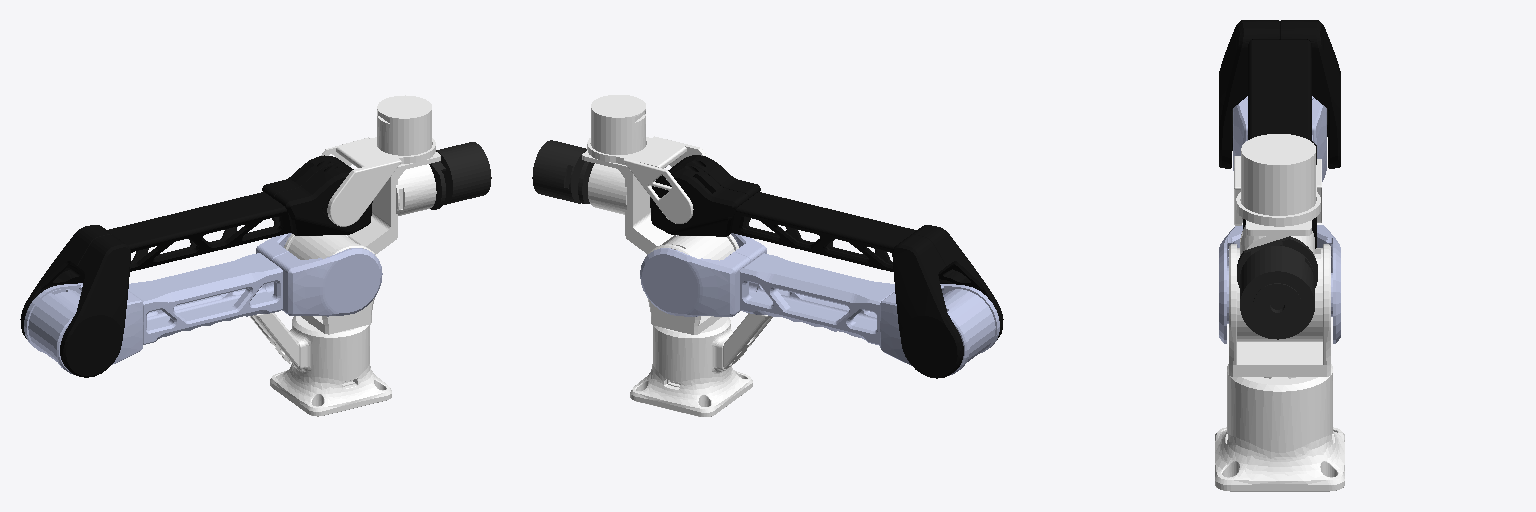
robot.urdf — robot:
<?xml version="1.0"?>
<robot name="robot">
  <link name="base">
    <inertial>
      <origin xyz="-0.00248207 1e-8 0.03784448" rpy="0 0 0"/>
      <mass value="0.3764035"/>
      <inertia ixx="0.00019685" ixy="0" ixz="-0.00002405" iyy="0.00024222" iyz="0" izz="0.00023206"/>
    </inertial>
    <visual>
      <origin xyz="0 0 0" rpy="0 0 0"/>
      <geometry><mesh filename="package://damiao_arm_bringup/meshes/base_collision.stl"/></geometry>
      <material name="base_color"><color rgba="1 1 1 1"/></material>
    </visual>
    <collision>
      <origin xyz="0 0 0" rpy="0 0 0"/>
      <geometry><mesh filename="package://damiao_arm_bringup/meshes/base_collision.stl"/></geometry>
    </collision>
  </link>
  <link name="link1">
    <inertial>
      <origin xyz="0.00003538 -0.0000718 0.04801679" rpy="0 0 0"/>
      <mass value="0.41400874"/>
      <inertia ixx="0.0002321" ixy="3.1e-7" ixz="7e-8" iyy="0.00020922" iyz="-9e-8" izz="0.00018913"/>
    </inertial>
    <visual>
      <origin xyz="0 0 0" rpy="0 0 0"/>
      <geometry><mesh filename="package://damiao_arm_bringup/meshes/link1_collision.stl"/></geometry>
      <material name="link1_color"><color rgba="1 1 1 1"/></material>
    </visual>
    <collision>
      <origin xyz="0 0 0" rpy="0 0 0"/>
      <geometry><mesh filename="package://damiao_arm_bringup/meshes/link1_collision.stl"/></geometry>
    </collision>
  </link>
  <link name="link2">
    <inertial>
      <origin xyz="-0.19714328 0.02657002 0.00032055" rpy="0 0 0"/>
      <mass value="0.47570874"/>
      <inertia ixx="0.00022693" ixy="0.00004893" ixz="0.00001398" iyy="0.00371175" iyz="-1.1e-7" izz="0.00374776"/>
    </inertial>
    <visual>
      <origin xyz="0 0 0" rpy="0 0 0"/>
      <geometry><mesh filename="package://damiao_arm_bringup/meshes/link2_collision.stl"/></geometry>
      <material name="link2_color"><color rgba="0.79215686 0.81960784 0.93333333 1"/></material>
    </visual>
    <collision>
      <origin xyz="0 0 0" rpy="0 0 0"/>
      <geometry><mesh filename="package://damiao_arm_bringup/meshes/link2_collision.stl"/></geometry>
    </collision>
  </link>
  <link name="link3">
    <inertial>
      <origin xyz="0.1651649 0.02270821 0.05318555" rpy="0 0 0"/>
      <mass value="0.32789237"/>
      <inertia ixx="0.00036749" ixy="-0.00006783" ixz="0.00064566" iyy="0.00412989" iyz="-0.00002073" izz="0.00398948"/>
    </inertial>
    <visual>
      <origin xyz="0 0 0" rpy="0 0 0"/>
      <geometry><mesh filename="package://damiao_arm_bringup/meshes/link3_collision.stl"/></geometry>
      <material name="link3_color"><color rgba="0.10980392 0.10980392 0.10980392 1"/></material>
    </visual>
    <collision>
      <origin xyz="0 0 0" rpy="0 0 0"/>
      <geometry><mesh filename="package://damiao_arm_bringup/meshes/link3_collision.stl"/></geometry>
    </collision>
  </link>
  <link name="link4">
    <inertial>
      <origin xyz="0.0651087 0.02590824 0.04330766" rpy="0 0 0"/>
      <mass value="0.1718"/>
      <inertia ixx="0.00006639" ixy="0.00000407" ixz="0.00002936" iyy="0.00010706" iyz="0.0000025" izz="0.00009881"/>
    </inertial>
    <visual>
      <origin xyz="0 0 0" rpy="0 0 0"/>
      <geometry><mesh filename="package://damiao_arm_bringup/meshes/link4_collision.stl"/></geometry>
      <material name="link4_color"><color rgba="1 1 1 1"/></material>
    </visual>
    <collision>
      <origin xyz="0 0 0" rpy="0 0 0"/>
      <geometry><mesh filename="package://damiao_arm_bringup/meshes/link4_collision.stl"/></geometry>
    </collision>
  </link>
  <link name="link5">
    <inertial>
      <origin xyz="-0.00402778 -0.00058728 -0.03553932" rpy="0 0 0"/>
      <mass value="0.175"/>
      <inertia ixx="0.00006362" ixy="-4.6e-7" ixz="0.00001137" iyy="0.00007156" iyz="-9e-8" izz="0.0000536"/>
    </inertial>
    <visual>
      <origin xyz="0 0 0" rpy="0 0 0"/>
      <geometry><mesh filename="package://damiao_arm_bringup/meshes/link5_collision.stl"/></geometry>
      <material name="link5_color"><color rgba="1 1 1 1"/></material>
    </visual>
    <collision>
      <origin xyz="0 0 0" rpy="0 0 0"/>
      <geometry><mesh filename="package://damiao_arm_bringup/meshes/link5_collision.stl"/></geometry>
    </collision>
  </link>
  <link name="link6">
    <inertial>
      <origin xyz="0.0338251 -0.00006571 -0.00002222" rpy="0 0 0"/>
      <mass value="0.1815"/>
      <inertia ixx="0.00005772" ixy="1.5e-7" ixz="6e-8" iyy="0.00005864" iyz="3.2e-7" izz="0.00006648"/>
    </inertial>
    <visual>
      <origin xyz="0 0 0" rpy="0 0 0"/>
      <geometry><mesh filename="package://damiao_arm_bringup/meshes/link6_collision.stl"/></geometry>
      <material name="link6_color"><color rgba="0.2 0.2 0.2 1"/></material>
    </visual>
    <collision>
      <origin xyz="0 0 0" rpy="0 0 0"/>
      <geometry><mesh filename="package://damiao_arm_bringup/meshes/link6_collision.stl"/></geometry>
    </collision>
  </link>
  <joint name="joint1" type="revolute">
    <parent link="base"/>
    <child link="link1"/>
    <origin xyz="0 0 0.063" rpy="0 0 0"/>
    <axis xyz="0 0 1"/>
    <limit lower="-3.14" upper="3.14" effort="10" velocity="3"/>
  </joint>
  <joint name="joint2" type="revolute">
    <parent link="link1"/>
    <child link="link2"/>
    <origin xyz="0 -0.0261 0.051" rpy="0 0 0"/>
    <axis xyz="0 1 0"/>
    <limit lower="-3.14" upper="3.14" effort="10" velocity="3"/>
  </joint>
  <joint name="joint3" type="revolute">
    <parent link="link2"/>
    <child link="link3"/>
    <origin xyz="-0.25 0.0036 0" rpy="0 0 0"/>
    <axis xyz="0 1 0"/>
    <limit lower="-3.14" upper="3.14" effort="10" velocity="3"/>
  </joint>
  <joint name="joint4" type="revolute">
    <parent link="link3"/>
    <child link="link4"/>
    <origin xyz="0.24996607 -0.0046 0.06529697" rpy="0 0 0"/>
    <axis xyz="0 1 0"/>
    <limit lower="-3.14" upper="3.14" effort="5" velocity="3"/>
  </joint>
  <joint name="joint5" type="revolute">
    <parent link="link4"/>
    <child link="link5"/>
    <origin xyz="0.07049701 0.02634411 0.02772414" rpy="0 0 0"/>
    <axis xyz="0 0 -1"/>
    <limit lower="-3.14" upper="3.14" effort="5" velocity="3"/>
  </joint>
  <joint name="joint6" type="revolute">
    <parent link="link5"/>
    <child link="link6"/>
    <origin xyz="0.0179 -0.00077112 -0.03464431" rpy="0 0 0"/>
    <axis xyz="1 0 0"/>
    <limit lower="-3.14" upper="3.14" effort="5" velocity="3"/>
  </joint>
</robot>

--- What the picture shows (computed from the rendered views, not written in the file) ---
The picture shows the robot from 3 angles, left to right: view 1: azimuth 30°, elevation 25°; view 2: azimuth 150°, elevation 25°; view 3: azimuth 270°, elevation 25°; orthographic projection.
Model robot with 7 links and 6 joints (6 revolute), rooted at base, posed all joints at 0.
Links seen in each view (by area): view 1: link3, link2, base, link4, link5, link6, link1; view 2: link3, link2, base, link4, link5, link6, link1; view 3: base, link3, link4, link1, link6, link2, link5.
Boxes of the visible links, x1=… form: link3: x1=20, y1=155, x2=372, y2=377; link2: x1=24, y1=233, x2=382, y2=374; base: x1=250, y1=313, x2=391, y2=416; link4: x1=321, y1=95, x2=435, y2=226; link5: x1=347, y1=152, x2=440, y2=254; link6: x1=429, y1=142, x2=491, y2=209; link1: x1=284, y1=234, x2=376, y2=334; link3: x1=650, y1=155, x2=1003, y2=378; link2: x1=640, y1=233, x2=999, y2=375; base: x1=630, y1=313, x2=772, y2=416; link4: x1=587, y1=95, x2=708, y2=223; link5: x1=582, y1=150, x2=675, y2=253; link6: x1=532, y1=140, x2=594, y2=203; link1: x1=645, y1=234, x2=738, y2=334; base: x1=1215, y1=364, x2=1344, y2=491; link3: x1=1219, y1=20, x2=1340, y2=248; link4: x1=1234, y1=134, x2=1321, y2=226; link1: x1=1229, y1=244, x2=1330, y2=378; link6: x1=1237, y1=236, x2=1317, y2=339; link2: x1=1219, y1=96, x2=1340, y2=343; link5: x1=1240, y1=220, x2=1314, y2=255.
Bounding box of the posed robot: 0.4213 × 0.08 × 0.2449 m (x, y, z).
Meshes: 7 distinct files referenced, 7 mesh visuals loaded (7 binary STL).
